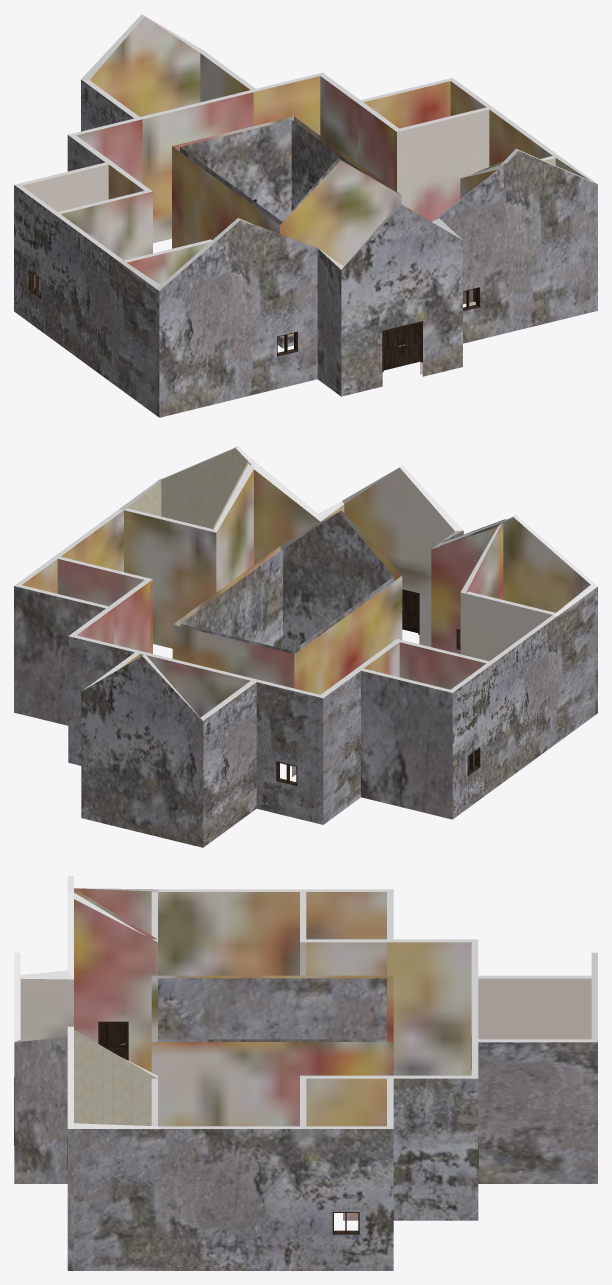
File: tembokan 1.fbx
3 views of the same model, one above another, from view 1: azimuth 30°, elevation 25°; view 2: azimuth 150°, elevation 25°; view 3: azimuth 270°, elevation 25° (orthographic). The views are drawn at different scales.
Visible parts, largest first — view 1: lantai.009, Cube.011, lantai.003, Cube.030, Cube.002; view 2: lantai.009, Cube.011, lantai.003, lantai.011, Cube.002; view 3: lantai.009, Cube.011, lantai.003, lantai.011, Cube.008.
Part boxes in pixels (x1,y1,x2,y2): lantai.009: (14, 80, 597, 417); Cube.011: (22, 16, 552, 374); lantai.003: (14, 14, 596, 290); Cube.030: (401, 323, 420, 365); Cube.002: (383, 327, 401, 370); lantai.009: (14, 512, 597, 847); Cube.011: (22, 467, 590, 769); lantai.003: (14, 446, 597, 720); lantai.011: (126, 448, 250, 530); Cube.002: (402, 590, 418, 632); lantai.009: (14, 978, 597, 1270); Cube.011: (20, 888, 591, 1220); lantai.003: (14, 876, 597, 1128); lantai.011: (74, 1030, 157, 1125); Cube.008: (100, 1023, 126, 1059).
Bounding box in the file's own units: 3394 × 1329 × 3487.
